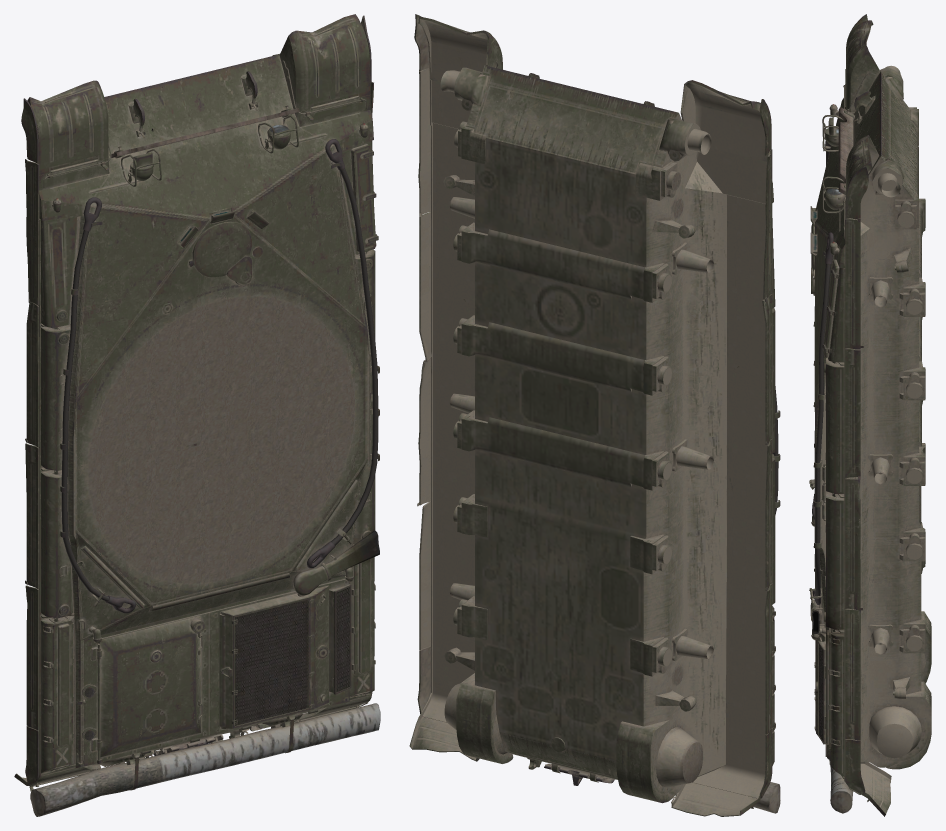
File: Hull.glb
3 views of the same model, side by side, from view 1: azimuth 30°, elevation 25°; view 2: azimuth 150°, elevation 25°; view 3: azimuth 270°, elevation 25° (orthographic). The views are drawn at different scales.
Visible parts, largest first — view 1: set_0_group_0; view 2: set_0_group_0; view 3: set_0_group_0.
Part boxes in pixels (x1,y1,x2,y2): set_0_group_0: (14, 14, 380, 816); set_0_group_0: (409, 14, 780, 816); set_0_group_0: (809, 14, 931, 816).
Size of the model in its own units: 3.25 by 6.4 by 1.09.
1 material, 1 textured.
